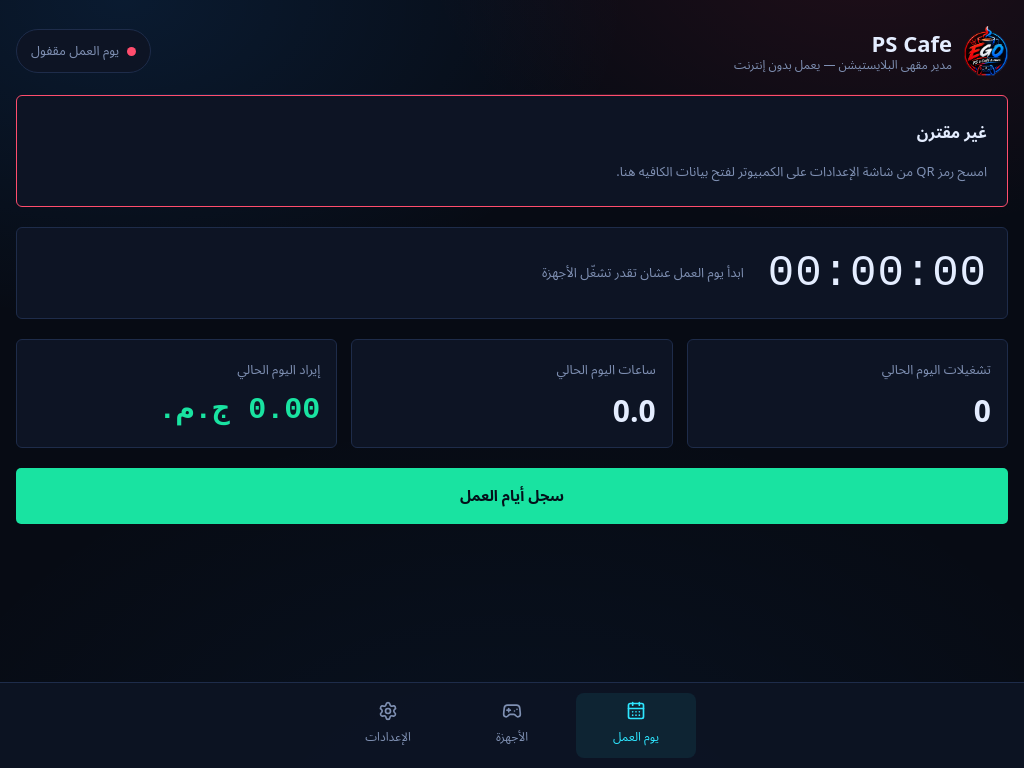
Test case: visitor mode (read-only LAN browser) › does not offer station management controls in settings
Click the button "الإعدادات" at [388, 726], box [328,693,448,758]
(page scrolled)
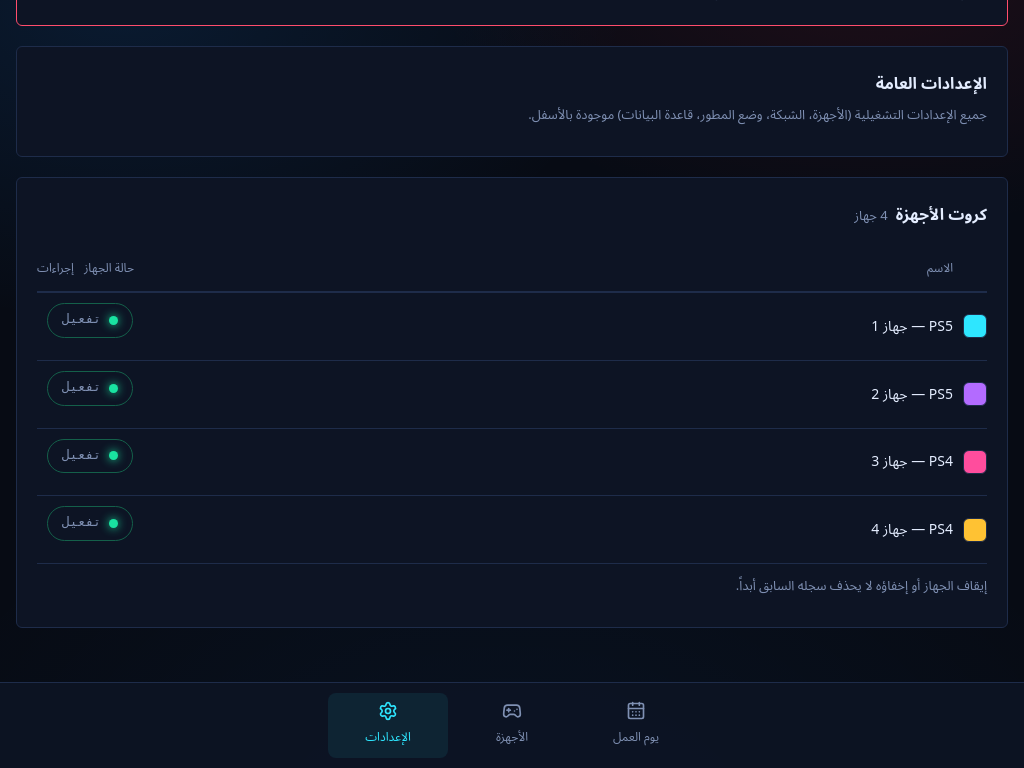
Check: the element "كروت الأجهزة" is shown, box [16,177,1008,628]
